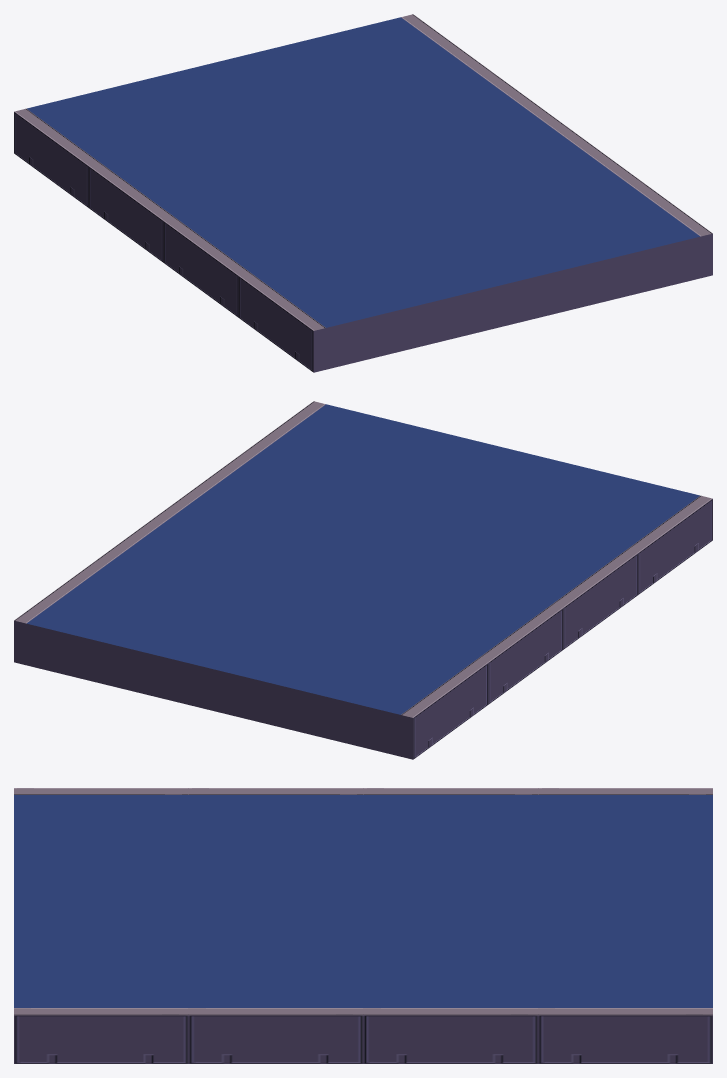
3 renders of one model, top to bottom at view 1: azimuth 30°, elevation 25°; view 2: azimuth 150°, elevation 25°; view 3: azimuth 270°, elevation 25°, orthographic. The views are drawn at different scales.
Parts seen in each view (by area): view 1: Joint_0_Object_1, Joint_0_Object_0; view 2: Joint_0_Object_1, Joint_0_Object_0; view 3: Joint_0_Object_1, Joint_0_Object_0.
Boxes of the visible parts, box(x1,y1,x2,y2) form: Joint_0_Object_1: box(27, 17, 699, 327); Joint_0_Object_0: box(14, 14, 712, 372); Joint_0_Object_1: box(27, 404, 699, 714); Joint_0_Object_0: box(14, 401, 712, 759); Joint_0_Object_1: box(14, 795, 712, 1007); Joint_0_Object_0: box(14, 788, 712, 1063).
Bounding box in the file's own units: 2500 × 250 × 3250.
2 materials, 1 textured.
